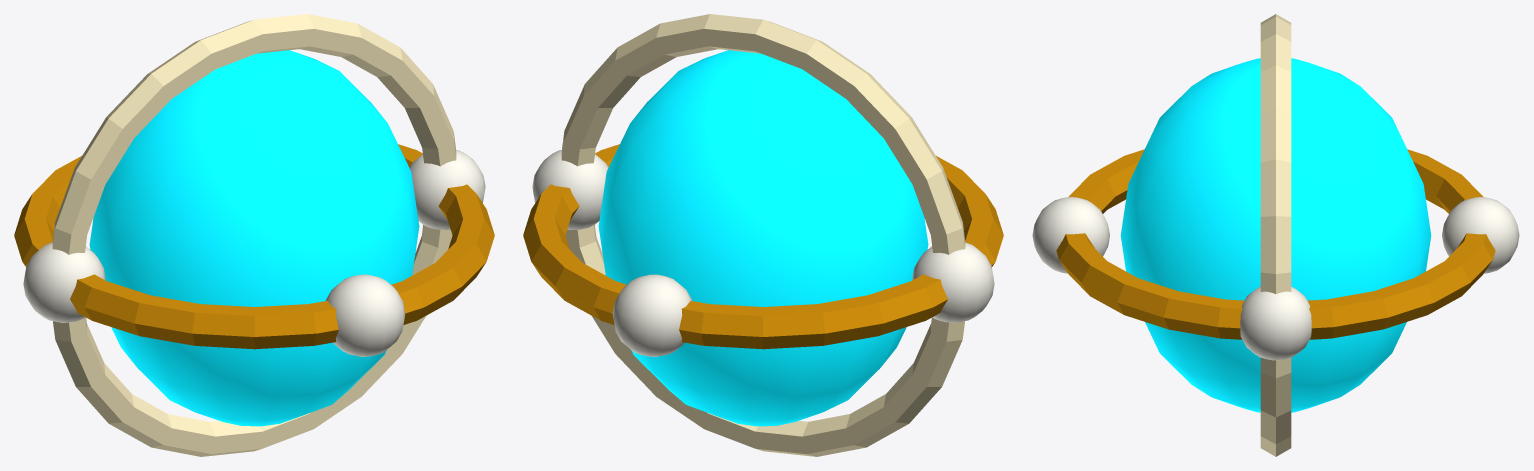
Rendered from core.glb.
The picture shows the model from 3 angles, left to right: view 1: azimuth 30°, elevation 25°; view 2: azimuth 150°, elevation 25°; view 3: azimuth 270°, elevation 25°; orthographic projection. The views are drawn at different scales.
Visible parts, largest first — view 1: core; view 2: core; view 3: core.
Boxes of the visible parts, <box> form: core: <box>14,14,494,456</box>; core: <box>523,14,1003,456</box>; core: <box>1032,14,1519,456</box>.
Size of the model in its own units: 0.69 by 0.63 by 0.69.
